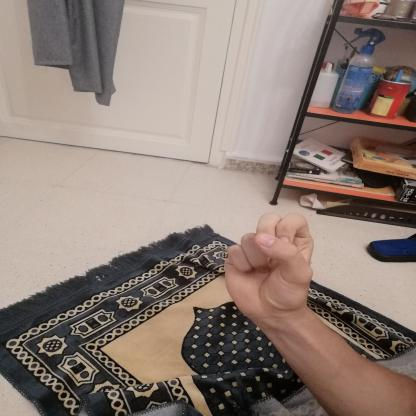QAAF: (214, 204, 328, 328)
